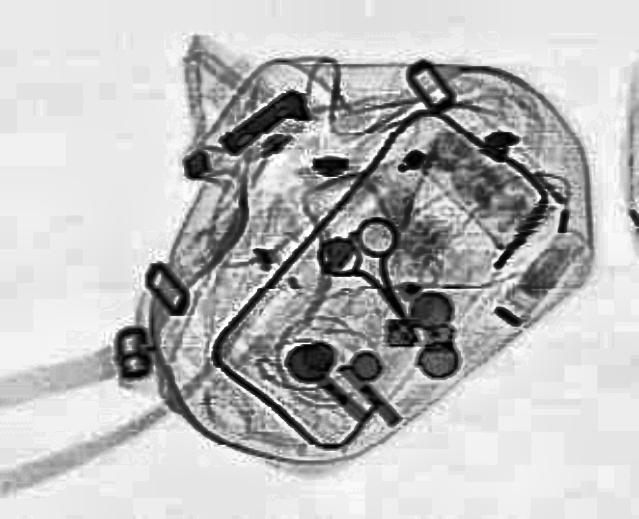Scissors: (301, 210, 457, 353)
